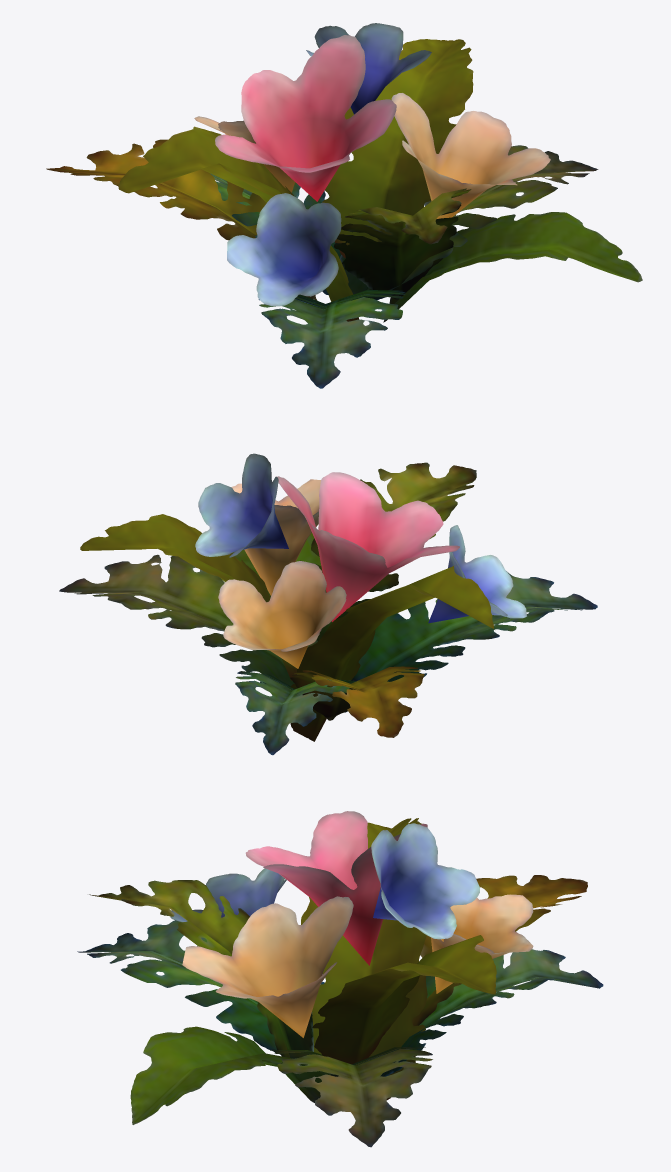
The model's file is bush_5.fbx.
3 renders of one model, top to bottom at view 1: azimuth 30°, elevation 25°; view 2: azimuth 150°, elevation 25°; view 3: azimuth 270°, elevation 25°, orthographic. The views are drawn at different scales.
Visible parts, largest first — view 1: bush_5; view 2: bush_5; view 3: bush_5.
Boxes of the visible parts, x1=… form: bush_5: x1=46, y1=23, x2=642, y2=388; bush_5: x1=59, y1=453, x2=597, y2=755; bush_5: x1=77, y1=811, x2=603, y2=1147.
Bounding box in the file's own units: 1.24 × 0.6755 × 1.28.
